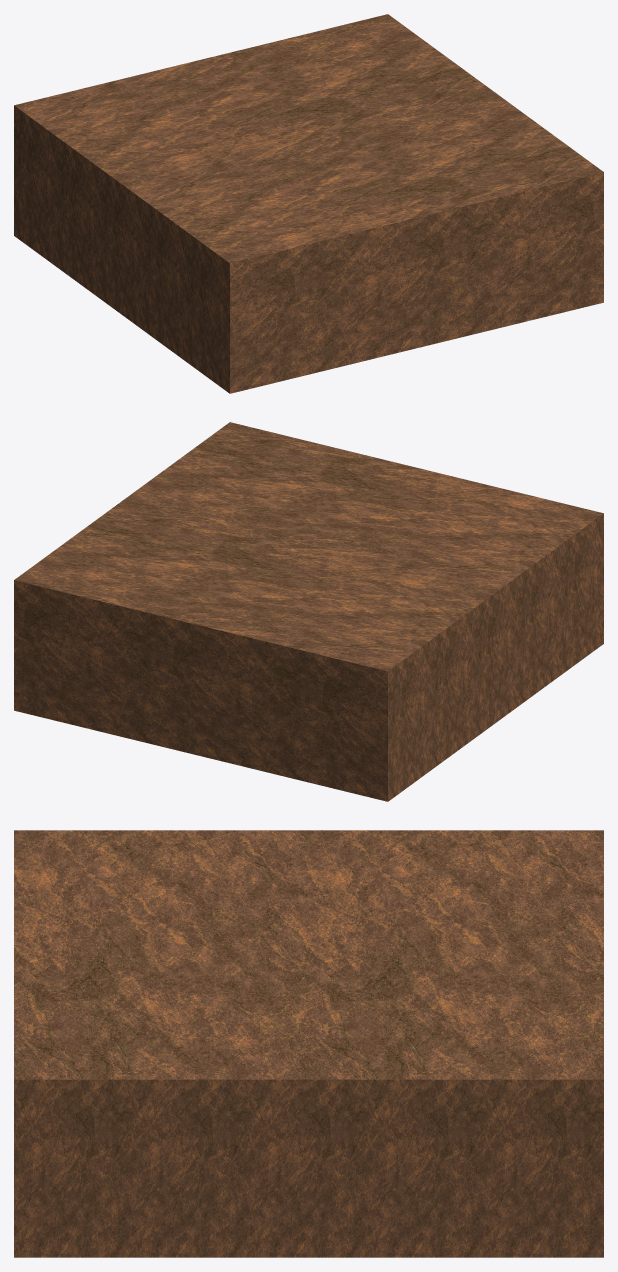
The model's file is Level2_07.glb.
3 renders of one model, top to bottom at view 1: azimuth 30°, elevation 25°; view 2: azimuth 150°, elevation 25°; view 3: azimuth 270°, elevation 25°, orthographic. The views are drawn at different scales.
Visible parts, largest first — view 1: Level2_07; view 2: Level2_07; view 3: Level2_07.
Part boxes in pixels (bbox=[...]): Level2_07: bbox=[14, 14, 603, 393]; Level2_07: bbox=[14, 422, 603, 801]; Level2_07: bbox=[14, 830, 603, 1257].
Size of the model in its own units: 6 by 2 by 6.
Materials: 1 (1 with a texture image).
